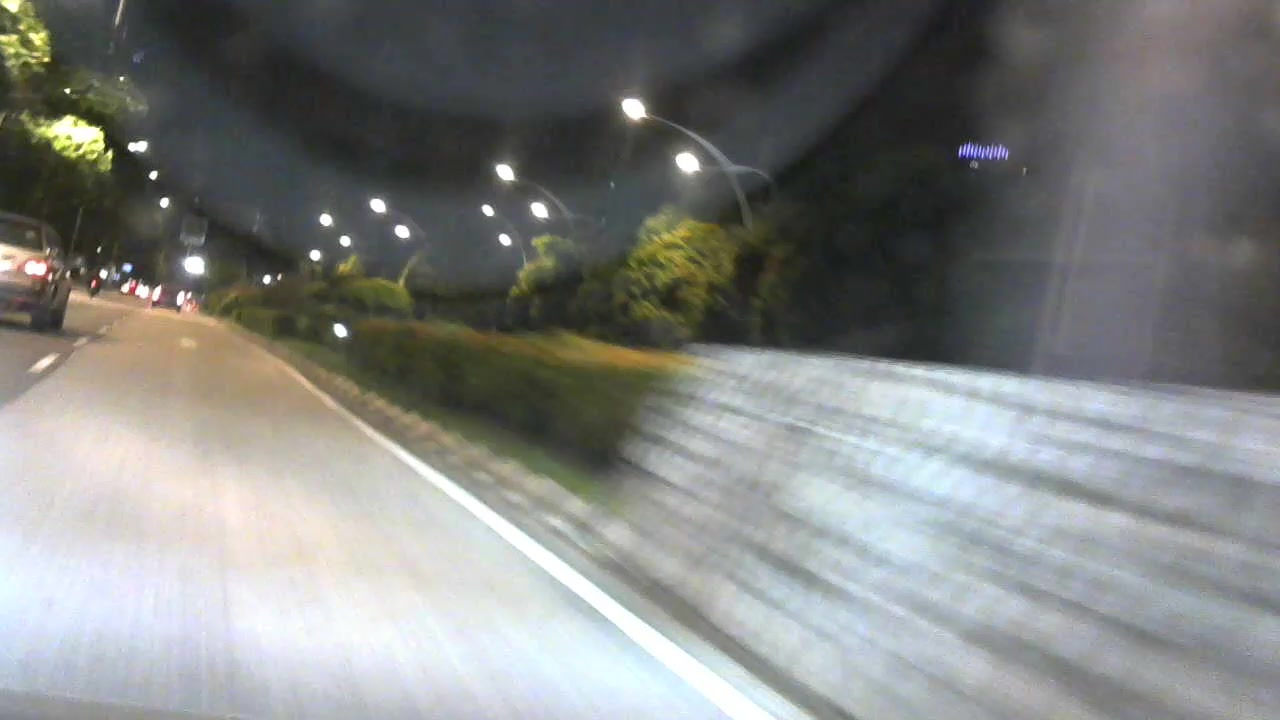Car: (1, 211, 79, 338), (147, 277, 188, 316), (114, 270, 143, 307)
